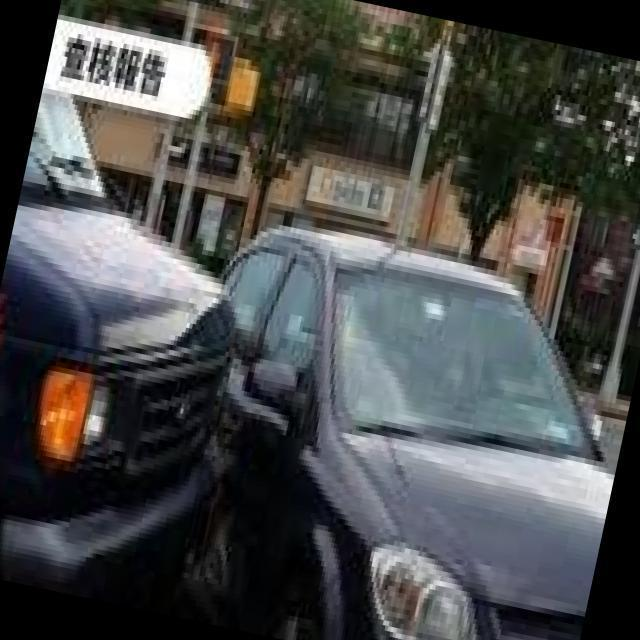accident: (0, 121, 442, 640)
